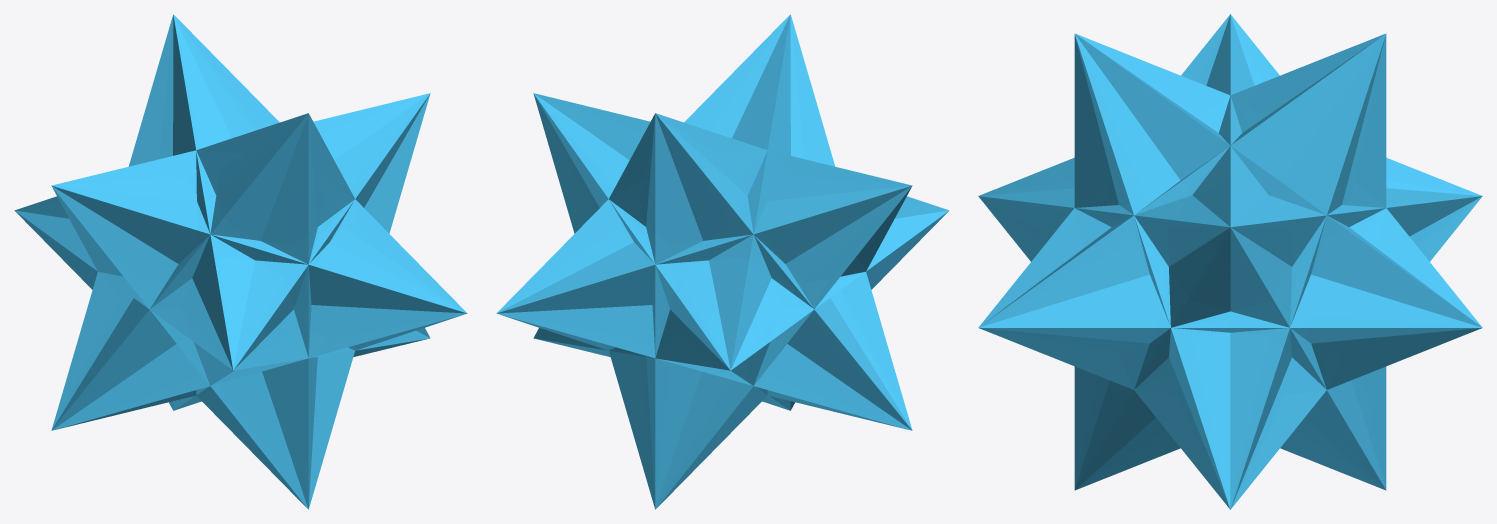
Rendered from SmallDodecicosacron.obj.
3 views of the same model, side by side, from view 1: azimuth 30°, elevation 25°; view 2: azimuth 150°, elevation 25°; view 3: azimuth 270°, elevation 25° (orthographic). The views are drawn at different scales.
Size of the model in its own units: 7.85 by 7.85 by 7.85.
